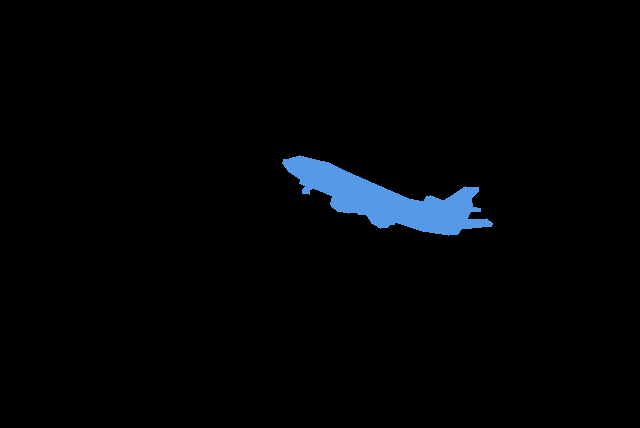Airplane: (282, 155, 492, 236)
